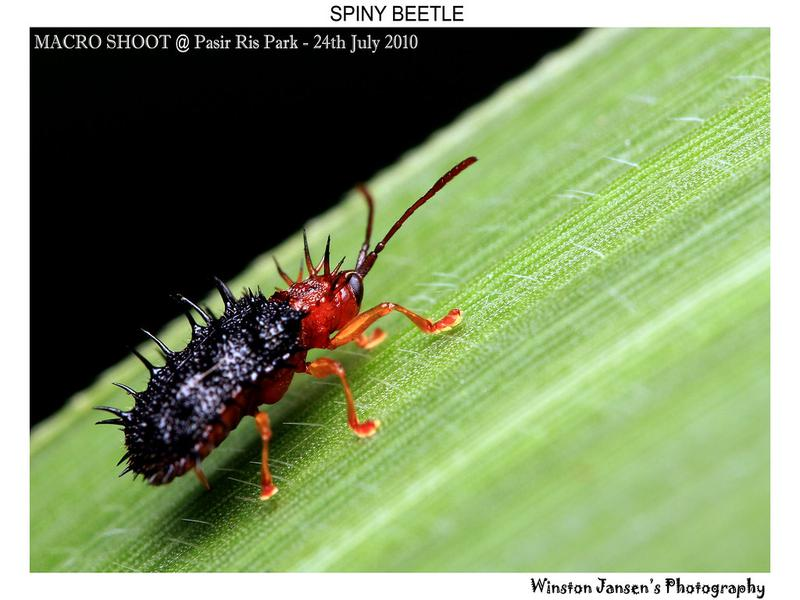Spiny_beetle: (77, 245, 448, 519)
